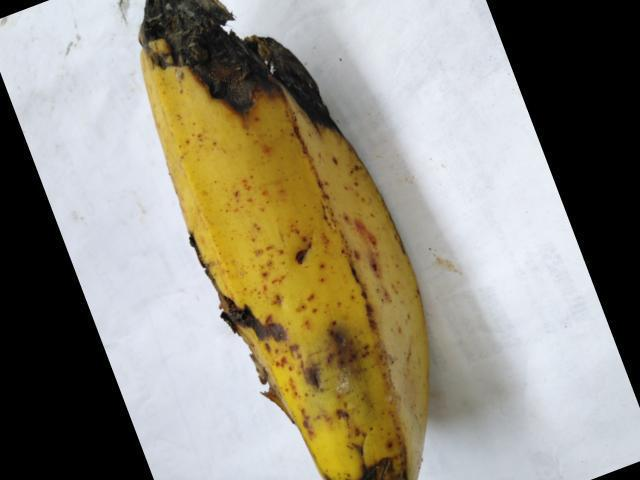rotten: (92, 0, 341, 152), (177, 226, 336, 431), (317, 312, 455, 479)
